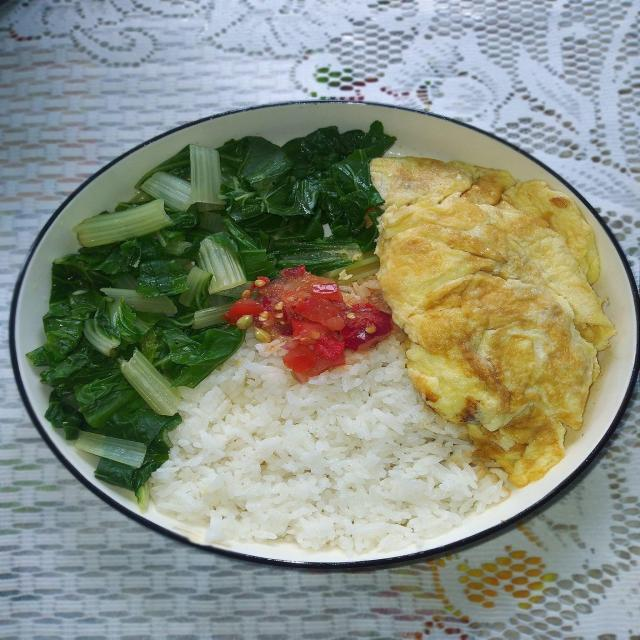Egg: (373, 154, 609, 487)
Plate: (10, 101, 639, 568)
Rice: (155, 336, 515, 554)
Vegetables: (31, 120, 400, 501)
